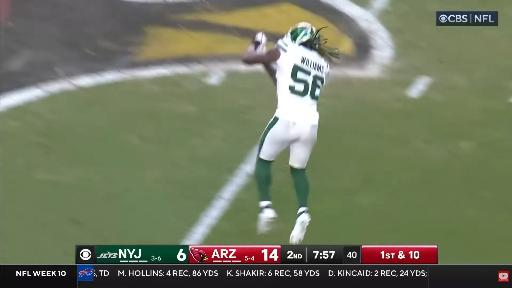Helmet: (286, 22, 316, 44)
Jersey: (274, 38, 329, 124)
Player: (243, 23, 339, 244)
